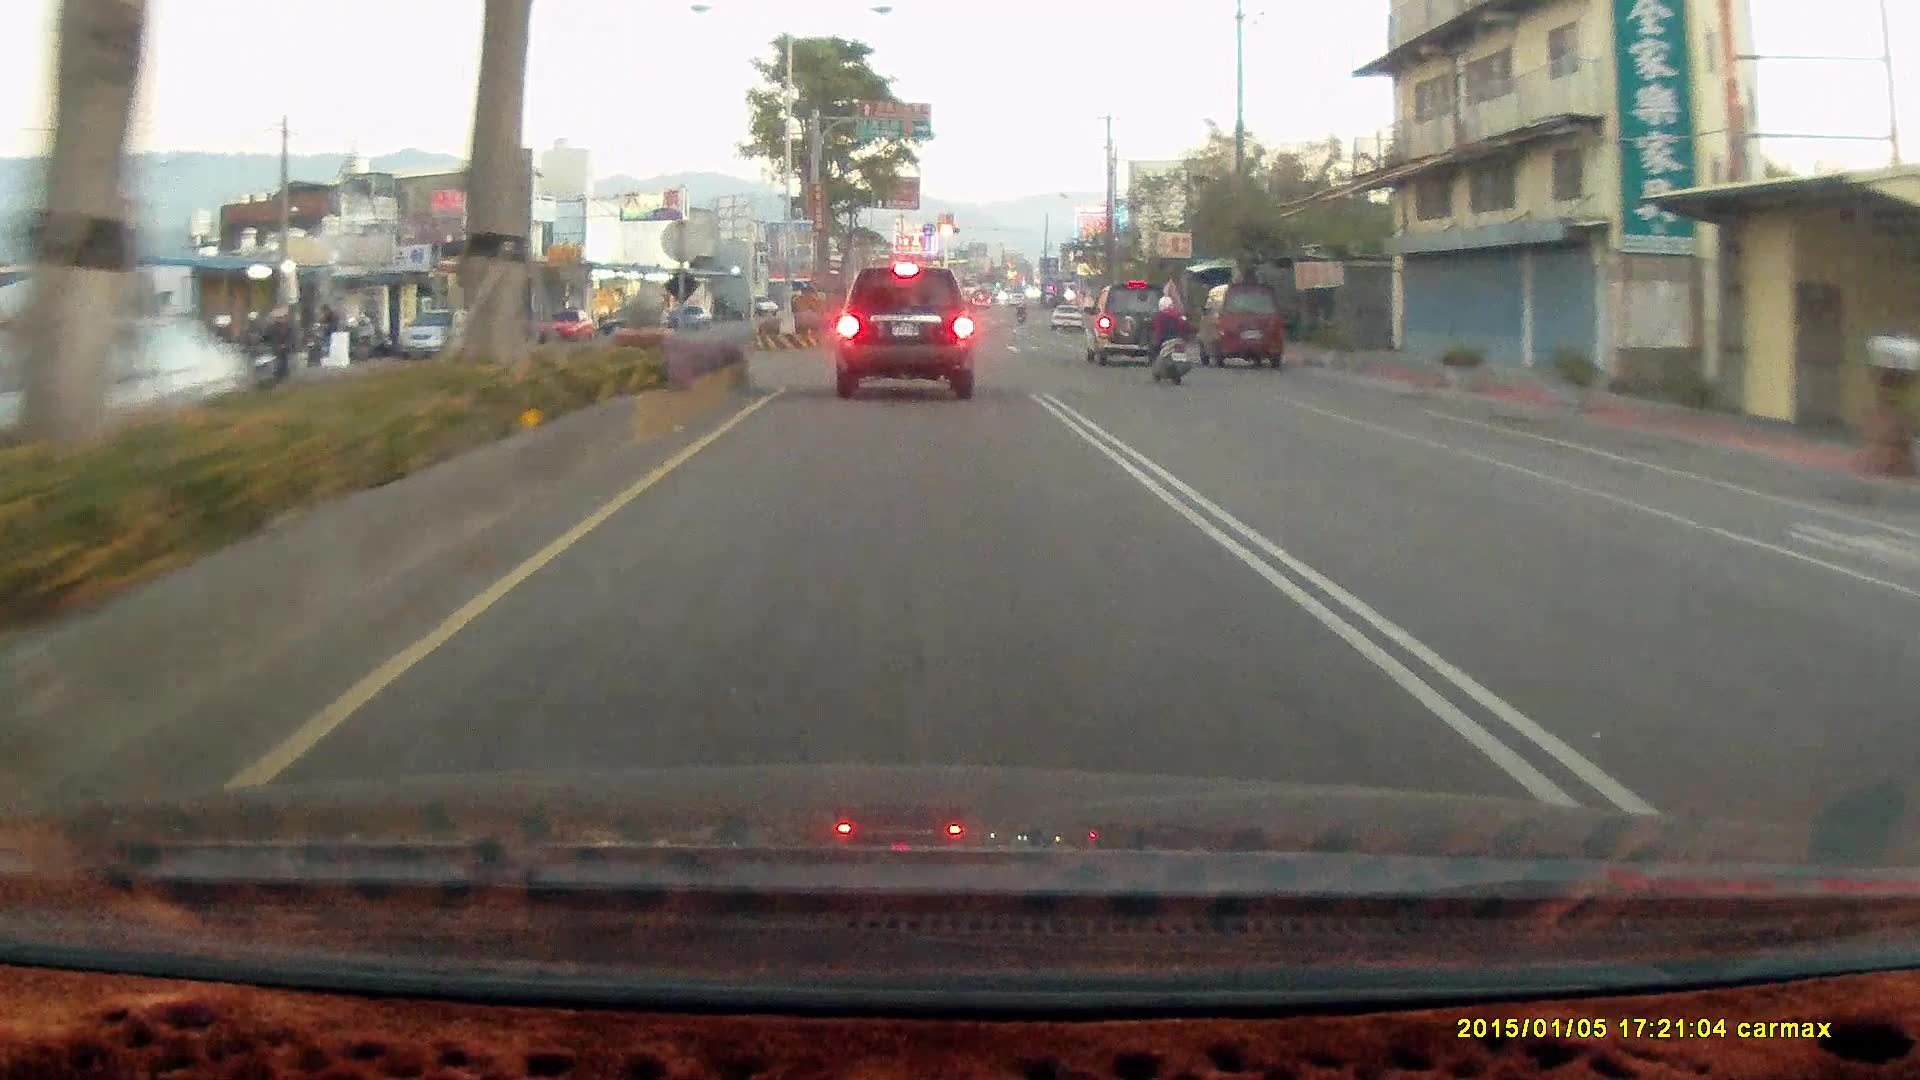rider: (1138, 290, 1196, 388), (242, 311, 298, 399), (1137, 291, 1188, 384)
vehicle: (831, 259, 986, 398), (834, 265, 972, 395), (1088, 281, 1184, 370), (1195, 282, 1285, 377), (1081, 280, 1172, 365), (1196, 282, 1282, 366), (392, 308, 482, 360), (395, 308, 480, 358)
